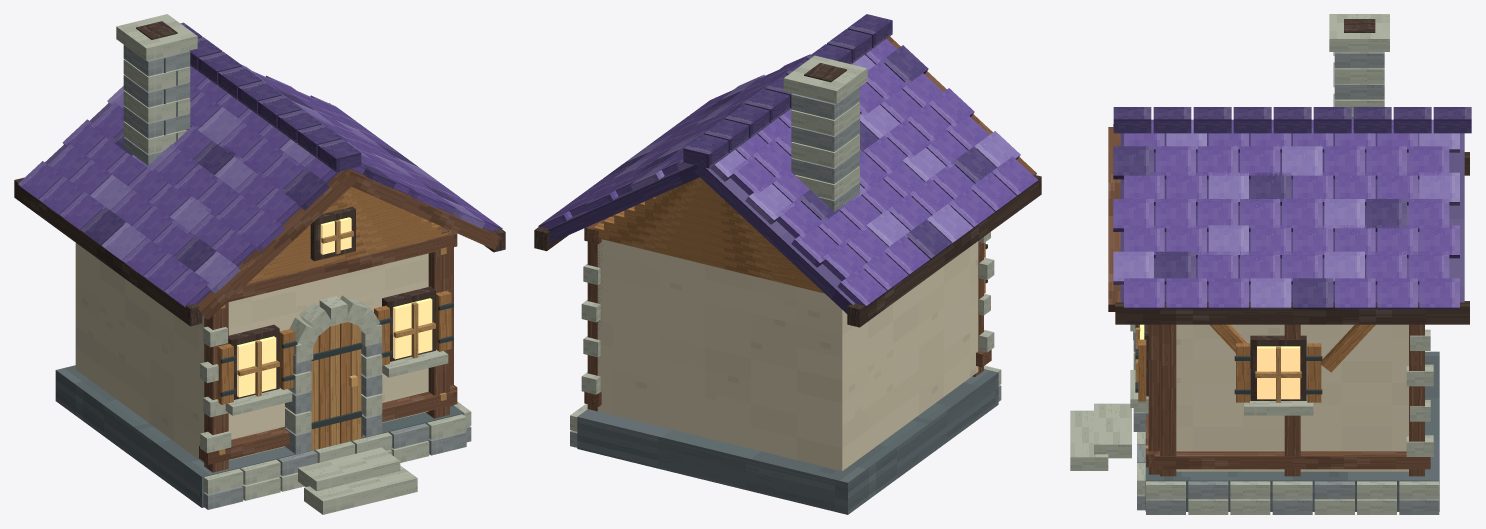
Rendered from seed.glb.
3 renders of one model, left to right at view 1: azimuth 30°, elevation 25°; view 2: azimuth 150°, elevation 25°; view 3: azimuth 270°, elevation 25°, orthographic. The views are drawn at different scales.
Parts seen in each view (by area): view 1: roof_geometry, plaster_geometry, stone_light_geometry, wood_geometry, roof_dark_geometry, oak_geometry, stone_dark_geometry, stone_geometry, roof_light_geometry, wood_dark_geometry, oak_light_geometry, window_warm_geometry (+1 smaller); view 2: plaster_geometry, roof_geometry, stone_dark_geometry, roof_dark_geometry, oak_geometry, stone_light_geometry, roof_light_geometry, wood_dark_geometry, stone_geometry, wood_geometry; view 3: roof_geometry, plaster_geometry, roof_dark_geometry, stone_light_geometry, wood_geometry, roof_light_geometry, wood_dark_geometry, stone_geometry, stone_dark_geometry, oak_geometry, window_warm_geometry, oak_light_geometry (+1 smaller).
Part boxes in pixels (x1,y1,x2,y2): roof_geometry: (18, 66, 502, 307); plaster_geometry: (75, 243, 428, 462); stone_light_geometry: (116, 14, 471, 514); wood_geometry: (197, 169, 501, 472); roof_dark_geometry: (45, 22, 493, 304); oak_geometry: (217, 186, 451, 448); stone_dark_geometry: (55, 58, 464, 507); stone_geometry: (123, 45, 471, 509); roof_light_geometry: (90, 64, 485, 293); wood_dark_geometry: (14, 21, 505, 437); oak_light_geometry: (219, 220, 446, 455); window_warm_geometry: (237, 217, 432, 397); plaster_geometry: (597, 239, 978, 470); roof_geometry: (538, 39, 1038, 307); stone_dark_geometry: (577, 369, 998, 514); roof_dark_geometry: (547, 14, 996, 313); oak_geometry: (593, 177, 985, 293); stone_light_geometry: (570, 55, 1001, 431); roof_light_geometry: (613, 55, 1020, 246); wood_dark_geometry: (534, 63, 1041, 327); stone_geometry: (570, 87, 1001, 447); wood_geometry: (584, 36, 1036, 411); roof_geometry: (1113, 119, 1459, 309); plaster_geometry: (1176, 324, 1408, 471); roof_dark_geometry: (1113, 107, 1471, 309); stone_light_geometry: (1070, 14, 1439, 514); wood_geometry: (1108, 127, 1430, 476); roof_light_geometry: (1113, 119, 1459, 309); wood_dark_geometry: (1115, 19, 1469, 400); stone_geometry: (1133, 52, 1439, 514); stone_dark_geometry: (1145, 52, 1439, 511); oak_geometry: (1138, 324, 1375, 402); window_warm_geometry: (1140, 324, 1300, 399); oak_light_geometry: (1135, 327, 1301, 454).
Bounding box in the file's own units: 3.42 × 3.96 × 3.71.
Materials: 14 (11 with a texture image).
